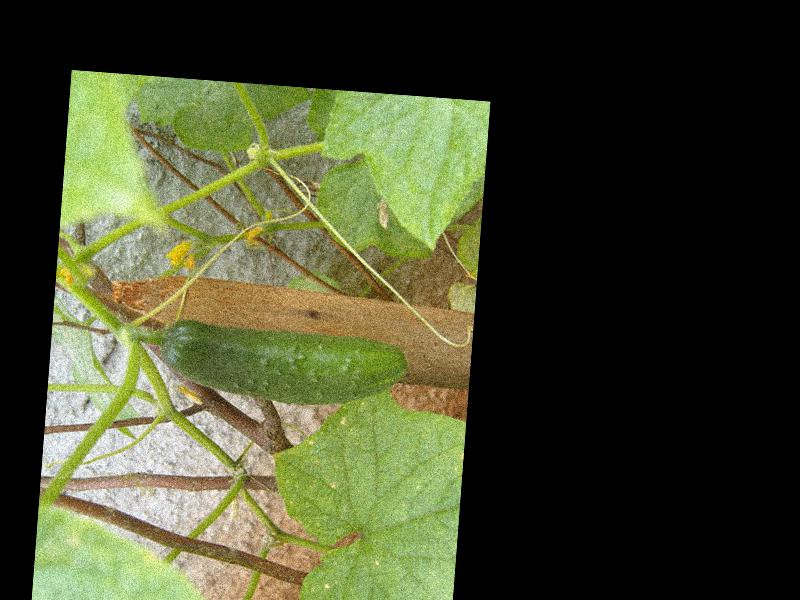Cucumber: (156, 316, 410, 412)
